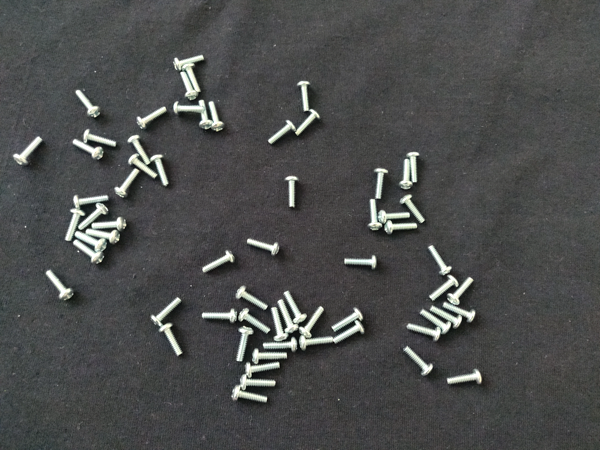shortscrew: (150, 297, 182, 328), (403, 346, 434, 377), (14, 137, 43, 168), (46, 271, 74, 302), (239, 309, 272, 335), (235, 286, 269, 311), (159, 324, 184, 358), (428, 245, 454, 277), (447, 277, 475, 306), (400, 195, 427, 225), (420, 309, 451, 335), (73, 241, 105, 266), (203, 250, 236, 274), (430, 306, 463, 330), (76, 90, 102, 120), (79, 203, 109, 229), (429, 275, 459, 301), (136, 106, 167, 131), (333, 307, 364, 332), (128, 154, 157, 180), (285, 291, 307, 325), (268, 120, 297, 145), (300, 307, 324, 337), (278, 300, 299, 334), (334, 321, 365, 344), (296, 109, 322, 136), (82, 130, 117, 150), (127, 135, 151, 164), (64, 210, 85, 243), (442, 303, 476, 323), (232, 386, 269, 404), (73, 140, 104, 161), (115, 170, 138, 198), (75, 232, 107, 252), (236, 327, 254, 362), (407, 324, 442, 342), (72, 195, 109, 212), (150, 154, 169, 187), (247, 238, 281, 256), (240, 375, 277, 391), (272, 308, 289, 342), (180, 71, 198, 103), (245, 363, 281, 379), (447, 370, 483, 386), (183, 63, 202, 93), (300, 334, 333, 351), (86, 230, 121, 246), (173, 55, 205, 72), (202, 310, 238, 325), (253, 350, 288, 365), (383, 220, 418, 235), (264, 338, 298, 353), (344, 256, 378, 271), (368, 199, 383, 233), (92, 217, 127, 231), (285, 175, 299, 207), (399, 159, 413, 191), (297, 82, 311, 113), (375, 169, 389, 200), (378, 211, 411, 224), (174, 102, 204, 116), (406, 152, 419, 184)
